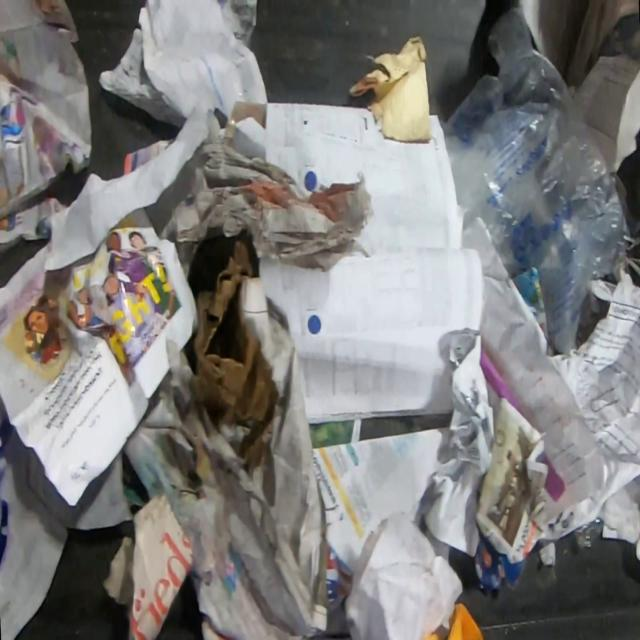cardboard: (180, 222, 281, 477), (474, 534, 529, 591)
soft_plastic: (442, 5, 631, 354), (0, 393, 15, 575)
